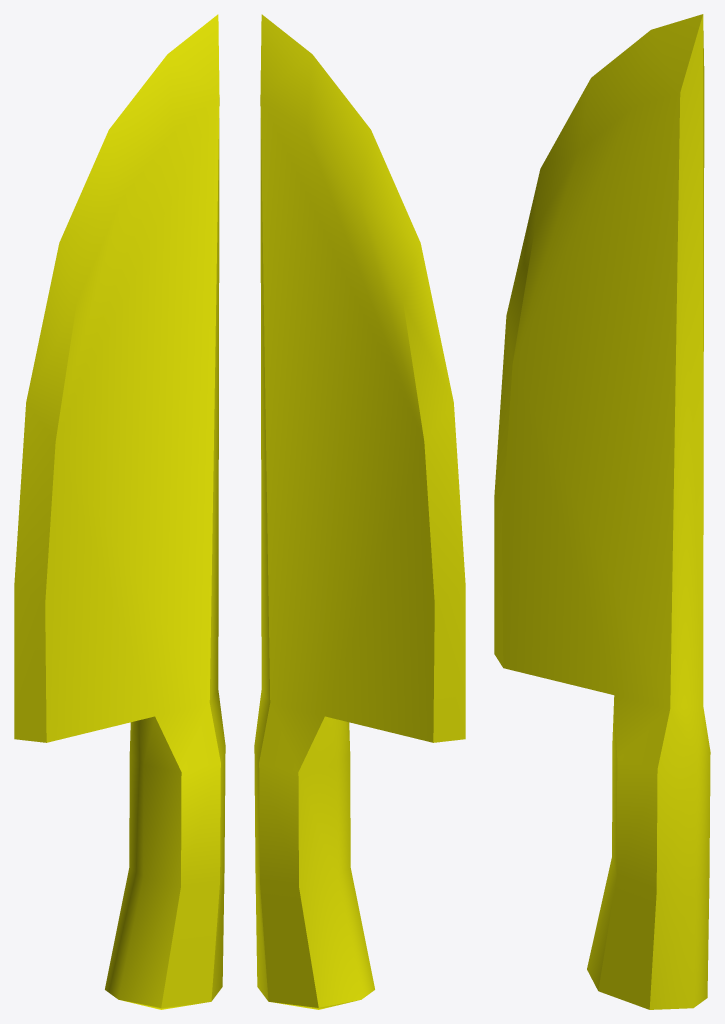
The model's file is kaykit-knife.glb.
The picture shows the model from 3 angles, left to right: view 1: azimuth 30°, elevation 25°; view 2: azimuth 150°, elevation 25°; view 3: azimuth 330°, elevation 25°; orthographic projection. The views are drawn at different scales.
Visible parts, largest first — view 1: knife; view 2: knife; view 3: knife.
Boxes of the visible parts, bbox=[...] form: knife: bbox=[14, 14, 225, 1009]; knife: bbox=[254, 14, 465, 1009]; knife: bbox=[494, 14, 710, 1009].
Size of the model in its own units: 0.25 by 1.15 by 0.1.
